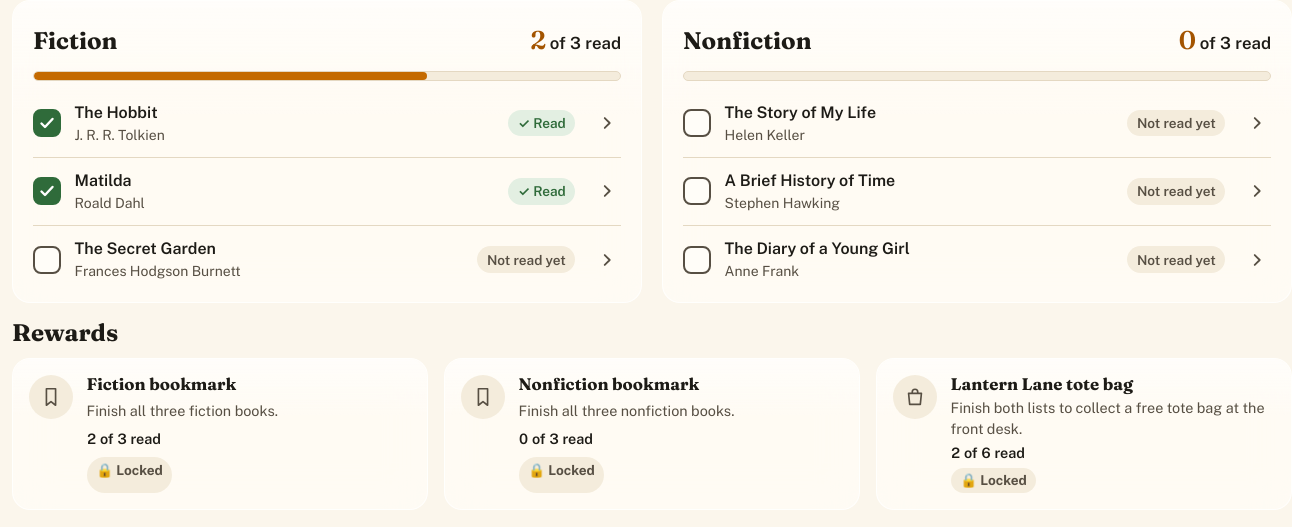
Rewards › unlocks the Fiction bookmark when the last fiction book is saved and announces it
Expected: the list item with test id "reward-fiction-bookmark" shows "🔒 Locked", x1=96 y1=462 x2=163 y2=478
Expected: the list item with test id "reward-fiction-bookmark" shows "2 of 3 read", x1=12 y1=358 x2=428 y2=510
What coordinates should you click on to do the following:
click the checkbox labelled "The Secret Garden Frances Hodgson Burnett"
I would click on:
 (137, 259)
Its box is x1=33 y1=239 x2=241 y2=279.
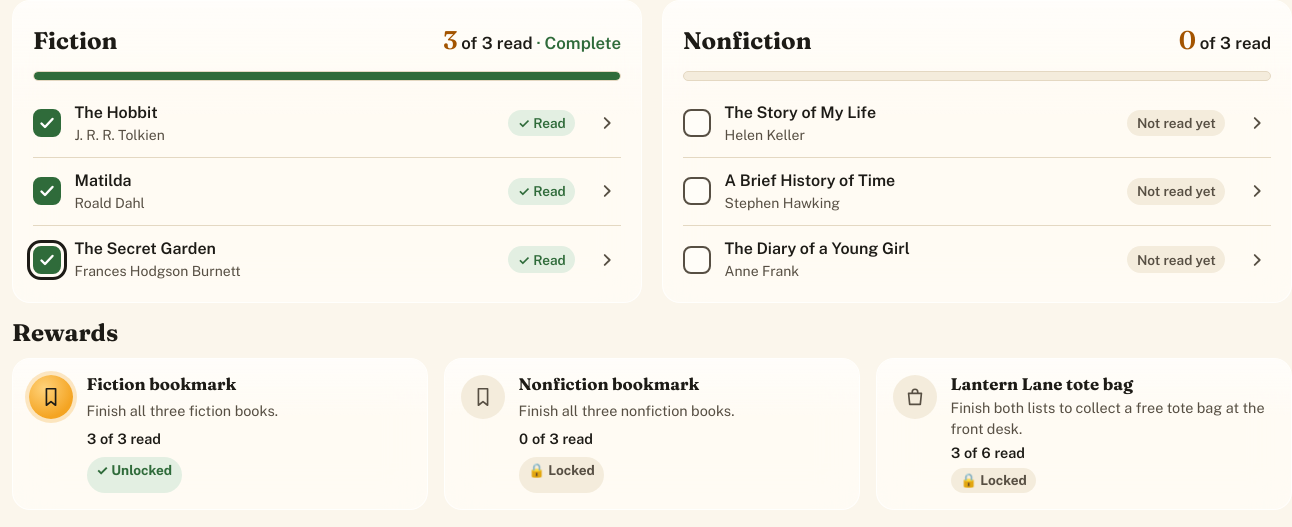
Expected: the list item with test id "reward-challenge-tote" shows "🔒 Locked", x1=960 y1=472 x2=1027 y2=488
Expected: the list item with test id "reward-fiction-bookmark" shows "✓ Unlocked", x1=96 y1=462 x2=172 y2=478
